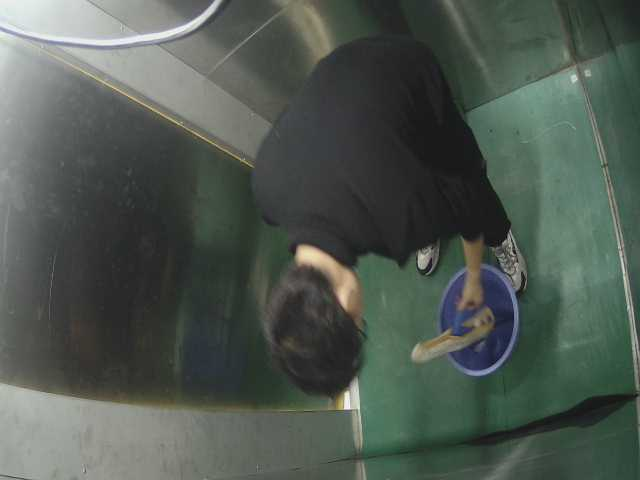bucket: (428, 258, 526, 376)
person: (246, 29, 524, 404)
